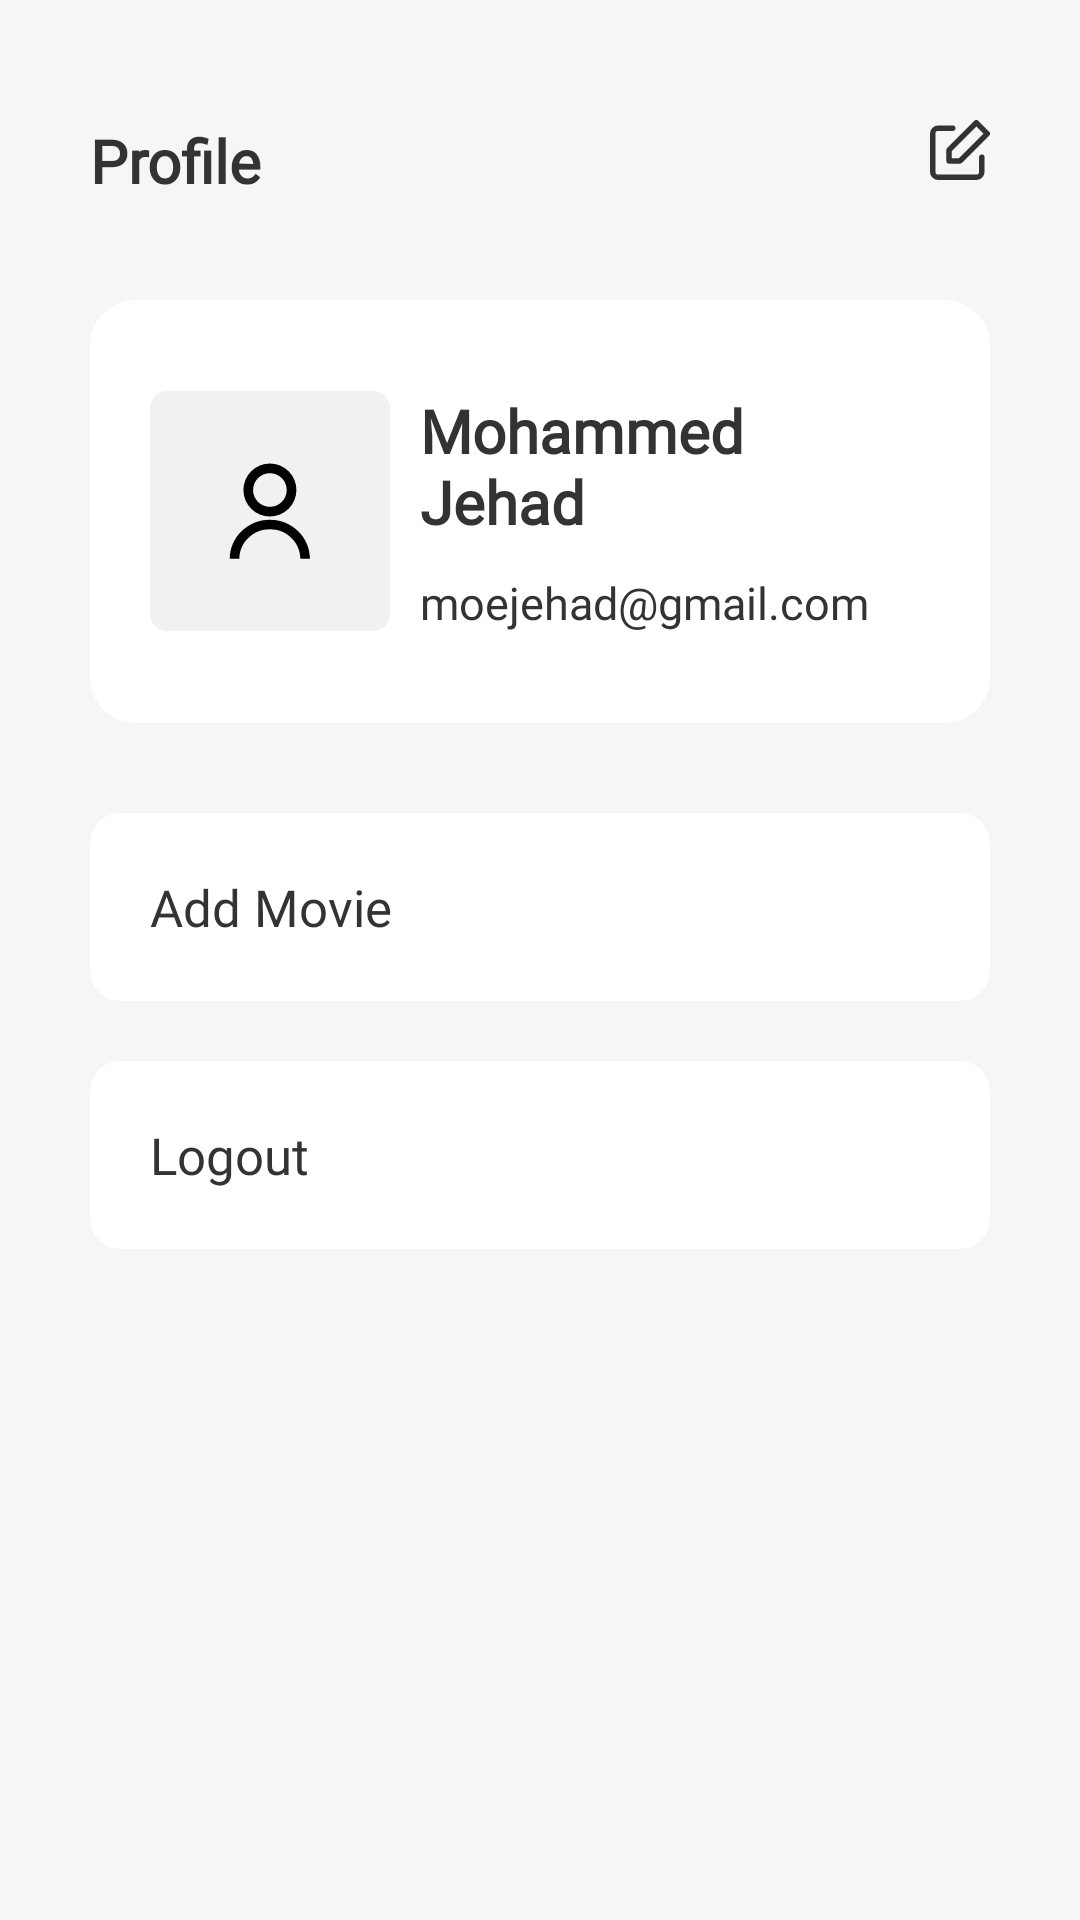

Screen size 1080 x 1920. Icon name, then its box in pixels as box(x1, y1, x2, y2):
edit: box(930, 120, 990, 180)
profile: box(150, 391, 390, 631)
